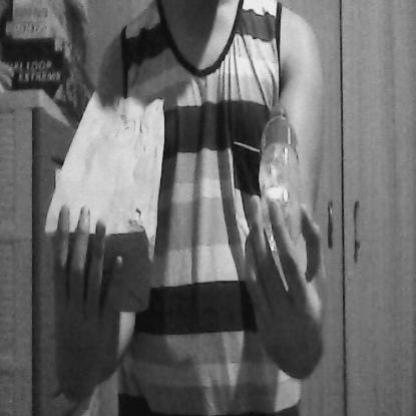Plastic Bottle: (247, 84, 310, 265)
